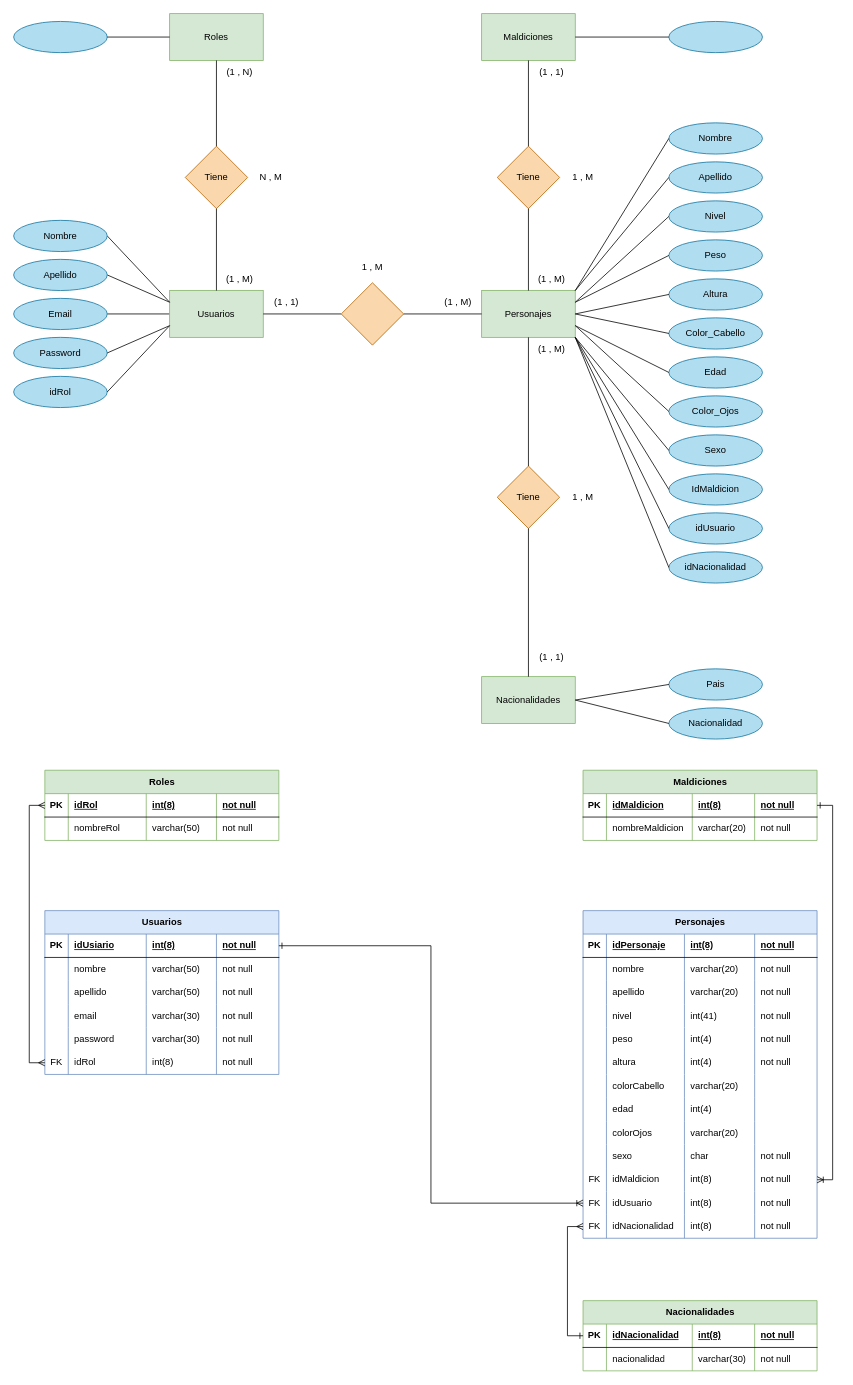
This 853x1385 diagram has some shape labels left out. The shapes that lost their labels are listed below. From the top down, each one's centre as x and y in pixels, then its label:
At [60,37]: "Nombre_Rol".
At [715,37]: "Nombre_Maldicion".
At [372,313]: "Pertenece".
